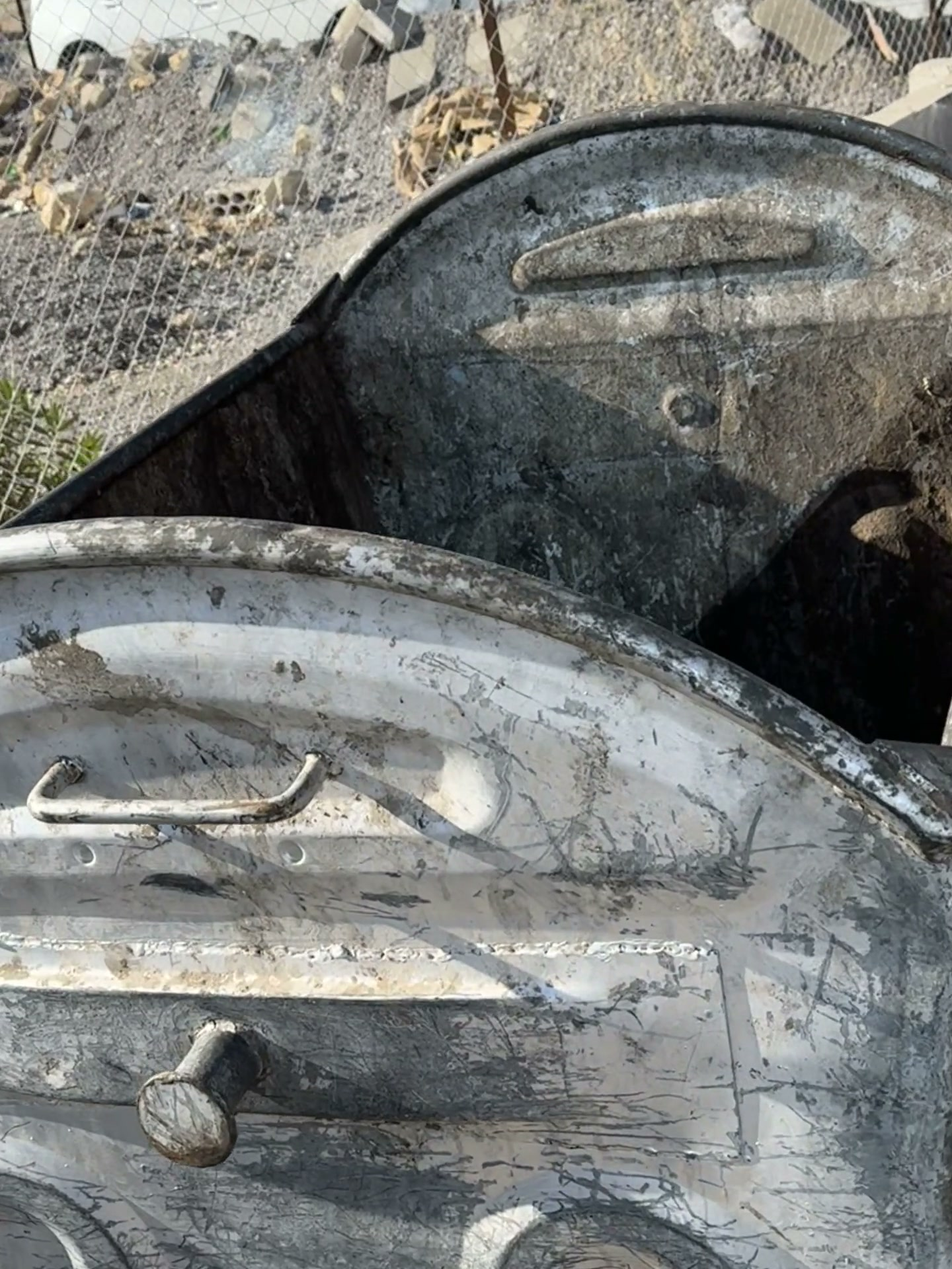trash_container: (4, 98, 952, 1264)
